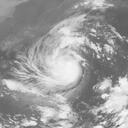cyclone: (33, 48, 83, 93)
